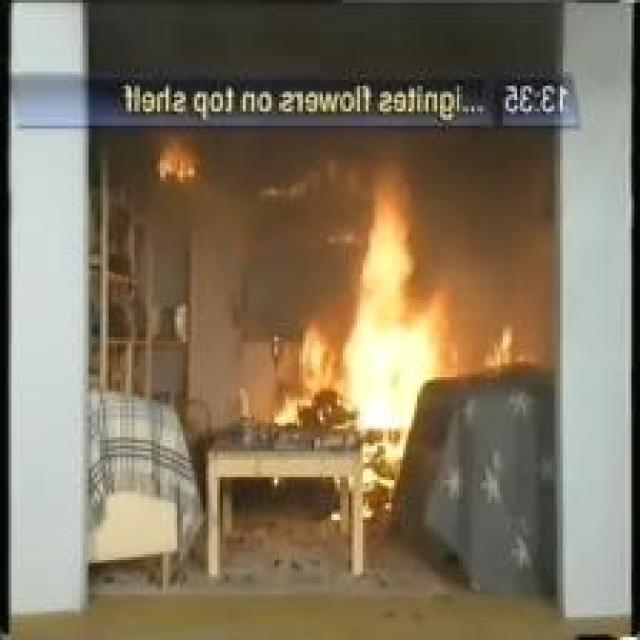fire: (283, 188, 471, 442)
